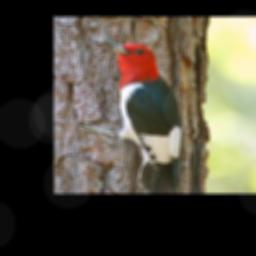Woodpecker: (77, 40, 183, 192)
